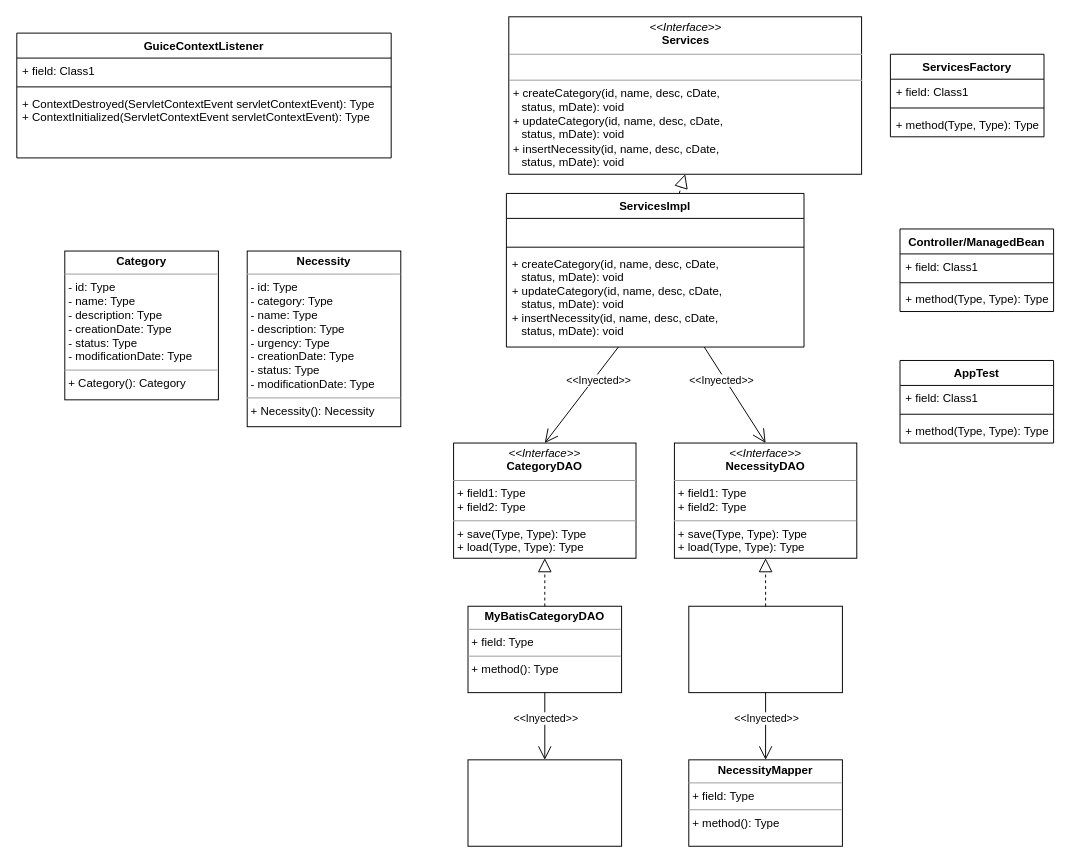
The diagram is 1070 pixels wide and 863 high, and some of its shapes have lost their labels. The shapes that lost their labels are listed below. From the top down, each one's centre as x and y in pixels, then its label:
the point at 765,649: MyBatisNecessityDAO + field: Type + method(): Type
the point at 544,802: CategoryMapper + field: Type + method(): Type
